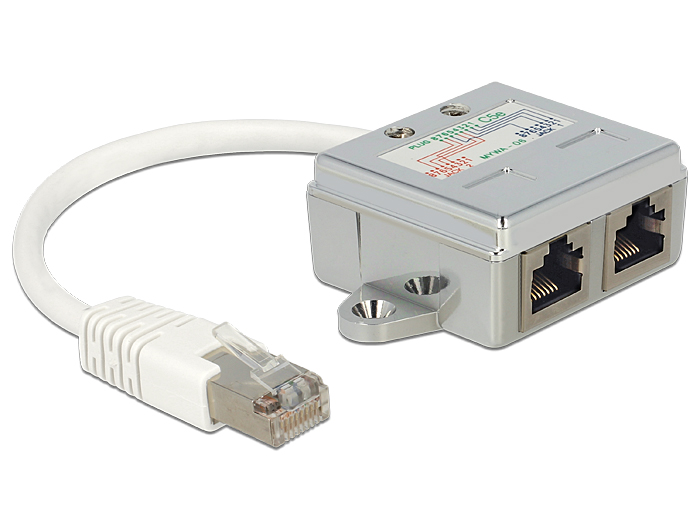lan: (519, 231, 591, 322), (605, 194, 673, 285)
